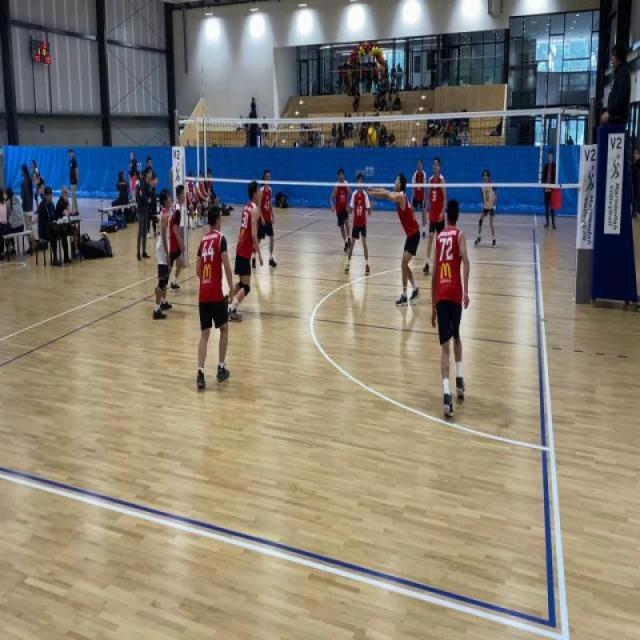volleyball: (366, 127, 378, 147), (100, 230, 108, 238)
